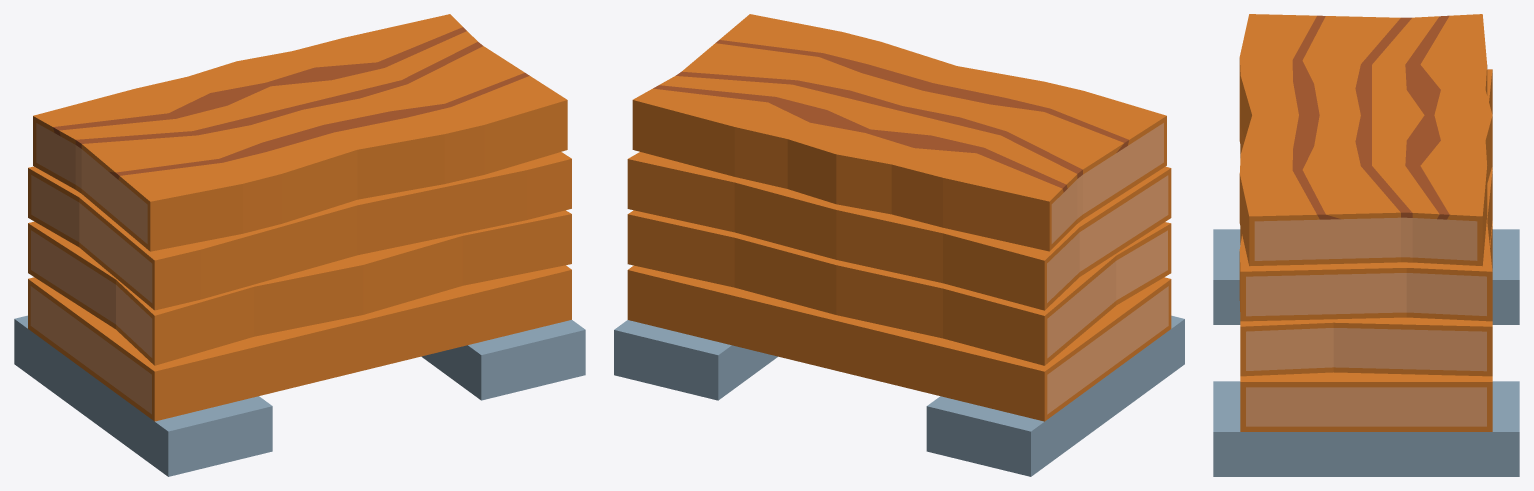
Rendered from StackOfPlanks.fbx.
3 views of the same model, side by side, from view 1: azimuth 30°, elevation 25°; view 2: azimuth 150°, elevation 25°; view 3: azimuth 270°, elevation 25° (orthographic).
Parts seen in each view (by area): view 1: StackedPlanks; view 2: StackedPlanks; view 3: StackedPlanks.
Part boxes in pixels (x1,y1,x2,y2): StackedPlanks: (14, 14, 585, 476); StackedPlanks: (614, 14, 1184, 476); StackedPlanks: (1213, 14, 1519, 476).
Size of the model in its own units: 400 by 240 by 256.
